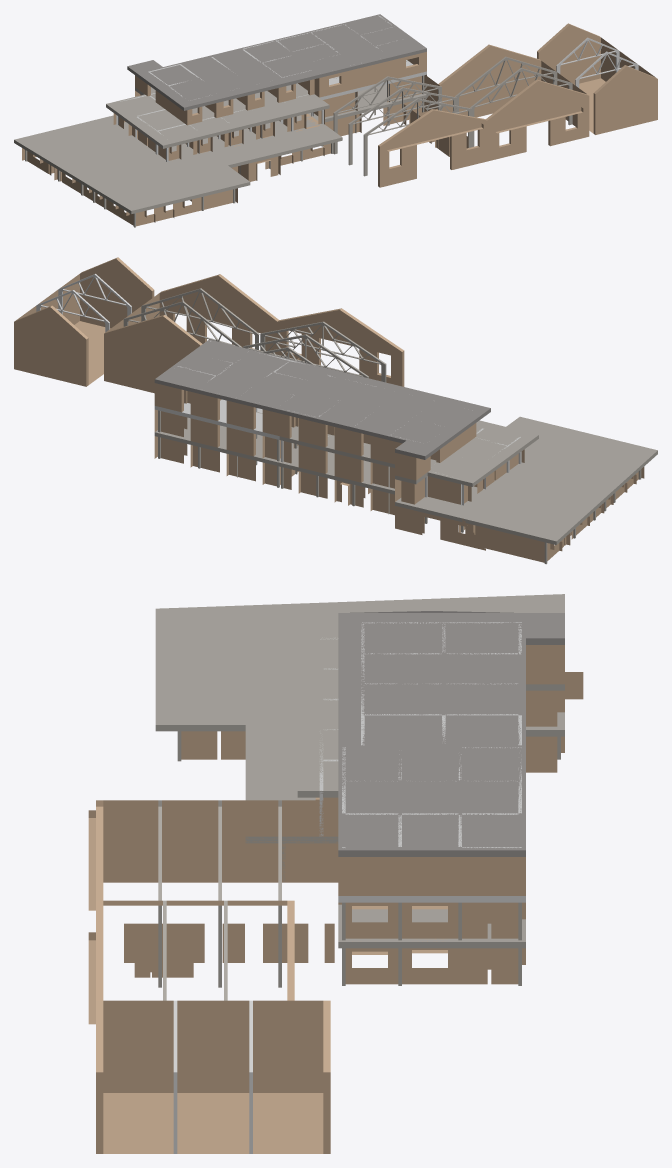
The model's file is scene_ww1jMSiOKE.glb.
3 views of the same model, one above another, from view 1: azimuth 30°, elevation 25°; view 2: azimuth 150°, elevation 25°; view 3: azimuth 270°, elevation 25° (orthographic). The views are drawn at different scales.
Visible parts, largest first — view 1: Mesh9 Group3 Model, Mesh11 Group5 Model, Mesh47 Group23 Model, Mesh10 Group4 Model, Mesh1 Group1 Model, Mesh3 Group2 Model, Mesh48 Group23 Model, Mesh46 Group23 Model, Mesh15 Group8 Model, Mesh49 Group23 Model, Mesh12 Group6 Model, Mesh13 Group6 Model (+13 smaller); view 2: Mesh11 Group5 Model, Mesh9 Group3 Model, Mesh47 Group23 Model, Mesh1 Group1 Model, Mesh48 Group23 Model, Mesh10 Group4 Model, Mesh49 Group23 Model, Mesh46 Group23 Model, Mesh3 Group2 Model, Mesh15 Group8 Model, Mesh12 Group6 Model, Mesh40 Group17 Model (+20 smaller); view 3: Mesh11 Group5 Model, Mesh12 Group6 Model, Mesh9 Group3 Model, Mesh13 Group6 Model, Mesh1 Group1 Model, Mesh3 Group2 Model, Mesh10 Group4 Model, Mesh19 Group8 Model, Mesh14 Group7 Model, Mesh22 Group9 Model, Mesh47 Group23 Model, Mesh36 Group13 Model (+6 smaller).
Part boxes in pixels (x1,y1,x2,y2): Mesh9 Group3 Model: (14, 113, 342, 214); Mesh11 Group5 Model: (127, 14, 426, 110); Mesh47 Group23 Model: (378, 79, 589, 187); Mesh10 Group4 Model: (106, 83, 329, 148); Mesh1 Group1 Model: (22, 98, 468, 226); Mesh3 Group2 Model: (135, 52, 426, 125); Mesh48 Group23 Model: (438, 44, 541, 117); Mesh46 Group23 Model: (593, 65, 657, 134); Mesh15 Group8 Model: (113, 90, 357, 160); Mesh49 Group23 Model: (537, 23, 600, 84); Mesh12 Group6 Model: (579, 37, 655, 133); Mesh13 Group6 Model: (387, 61, 586, 151); Mesh11 Group5 Model: (154, 339, 490, 459); Mesh9 Group3 Model: (279, 416, 657, 544); Mesh47 Group23 Model: (159, 274, 404, 386); Mesh1 Group1 Model: (154, 357, 644, 562); Mesh48 Group23 Model: (104, 315, 202, 393); Mesh10 Group4 Model: (279, 420, 538, 486); Mesh49 Group23 Model: (14, 305, 88, 386); Mesh46 Group23 Model: (80, 257, 154, 328); Mesh3 Group2 Model: (154, 383, 476, 480); Mesh15 Group8 Model: (293, 443, 524, 504); Mesh12 Group6 Model: (17, 274, 110, 384); Mesh40 Group17 Model: (260, 321, 386, 382); Mesh11 Group5 Model: (338, 611, 564, 856); Mesh12 Group6 Model: (103, 1000, 323, 1153); Mesh9 Group3 Model: (155, 594, 564, 843); Mesh13 Group6 Model: (88, 800, 338, 1024); Mesh1 Group1 Model: (124, 672, 583, 984); Mesh3 Group2 Model: (338, 645, 564, 895); Mesh10 Group4 Model: (297, 628, 564, 797); Mesh19 Group8 Model: (338, 902, 525, 941); Mesh14 Group7 Model: (338, 904, 525, 948); Mesh22 Group9 Model: (177, 604, 560, 882); Mesh47 Group23 Model: (96, 800, 103, 1000); Mesh36 Group13 Model: (361, 622, 521, 745).
Bounding box in the file's own units: 67.42 × 10.4 × 27.4.
